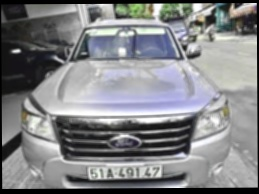Bien-so: (88, 171, 165, 194)
